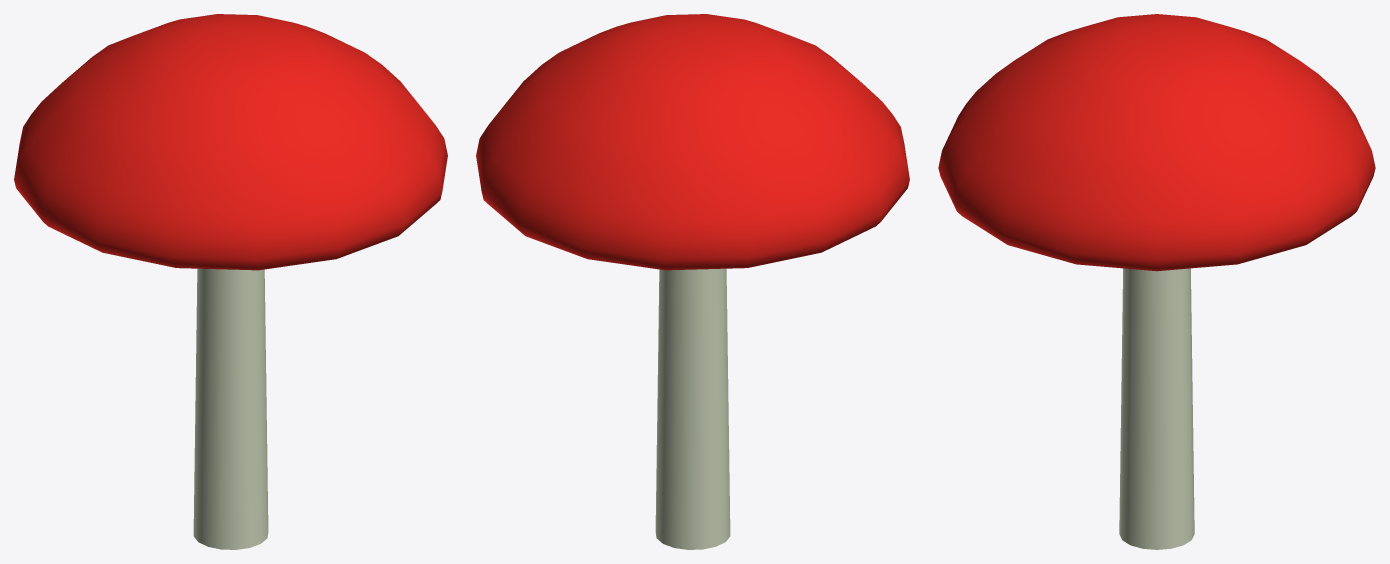
The model's file is Paddo.fbx.
The picture shows the model from 3 angles, left to right: view 1: azimuth 30°, elevation 25°; view 2: azimuth 150°, elevation 25°; view 3: azimuth 270°, elevation 25°; orthographic projection.
Visible parts, largest first — view 1: Cylinder; view 2: Cylinder; view 3: Cylinder.
Boxes of the visible parts, x1,y1,x2,y2 form: Cylinder: [14, 14, 447, 549]; Cylinder: [476, 14, 909, 549]; Cylinder: [938, 14, 1375, 549].
Bounding box in the file's own units: 0.4192 × 0.5223 × 0.4192.
